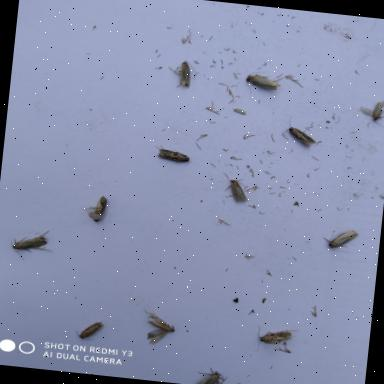pbw: (8, 224, 58, 266), (252, 322, 304, 359), (135, 308, 178, 350), (278, 113, 322, 151), (241, 68, 285, 100), (320, 225, 362, 255), (168, 57, 202, 92), (214, 174, 252, 205), (79, 192, 112, 227), (70, 316, 108, 346), (151, 142, 195, 167), (355, 95, 384, 129), (193, 364, 232, 384)
